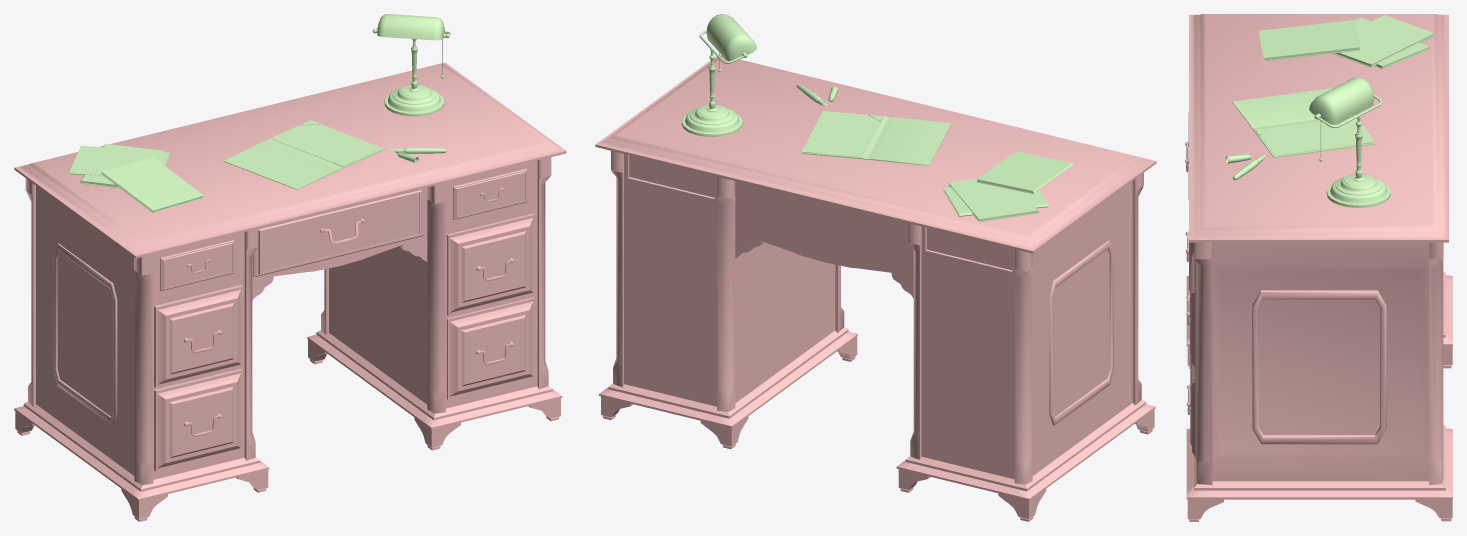
The model's file is OldDesk.fbx.
3 views of the same model, side by side, from view 1: azimuth 30°, elevation 25°; view 2: azimuth 150°, elevation 25°; view 3: azimuth 270°, elevation 25° (orthographic). The views are drawn at different scales.
Parts seen in each view (by area): view 1: Box002, Cylinder001; view 2: Box002, Cylinder001; view 3: Box002, Cylinder001.
Boxes of the visible parts, box(x1,y1,x2,y2) form: Box002: box(14, 62, 566, 521); Cylinder001: box(69, 14, 450, 212); Box002: box(595, 54, 1156, 521); Cylinder001: box(681, 14, 1073, 222); Box002: box(1185, 14, 1452, 521); Cylinder001: box(1225, 15, 1434, 207).
Bounding box in the file's own units: 2 × 1.64 × 1.
